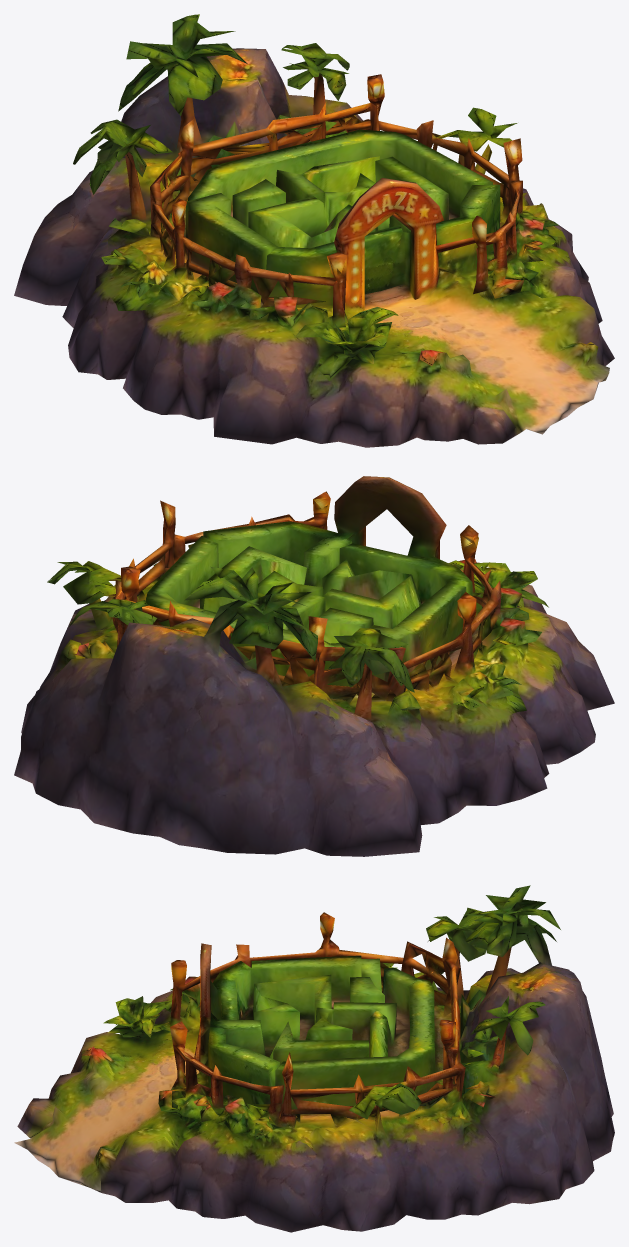
Rendered from maze+garden+3d+model.glb.
3 views of the same model, one above another, from view 1: azimuth 30°, elevation 25°; view 2: azimuth 150°, elevation 25°; view 3: azimuth 270°, elevation 25° (orthographic). The views are drawn at different scales.
Parts seen in each view (by area): view 1: tripo_node_9efb76d8-2dbe-4ab2-8431-e1dd38a17110; view 2: tripo_node_9efb76d8-2dbe-4ab2-8431-e1dd38a17110; view 3: tripo_node_9efb76d8-2dbe-4ab2-8431-e1dd38a17110.
Part boxes in pixels (left/top/right/bottom): tripo_node_9efb76d8-2dbe-4ab2-8431-e1dd38a17110: left=14, top=14, right=614, bottom=447; tripo_node_9efb76d8-2dbe-4ab2-8431-e1dd38a17110: left=14, top=476, right=614, bottom=856; tripo_node_9efb76d8-2dbe-4ab2-8431-e1dd38a17110: left=14, top=885, right=614, bottom=1232.
Size of the model in its own units: 0.8467 by 0.3814 by 1.
Materials: 1 (1 with a texture image).
